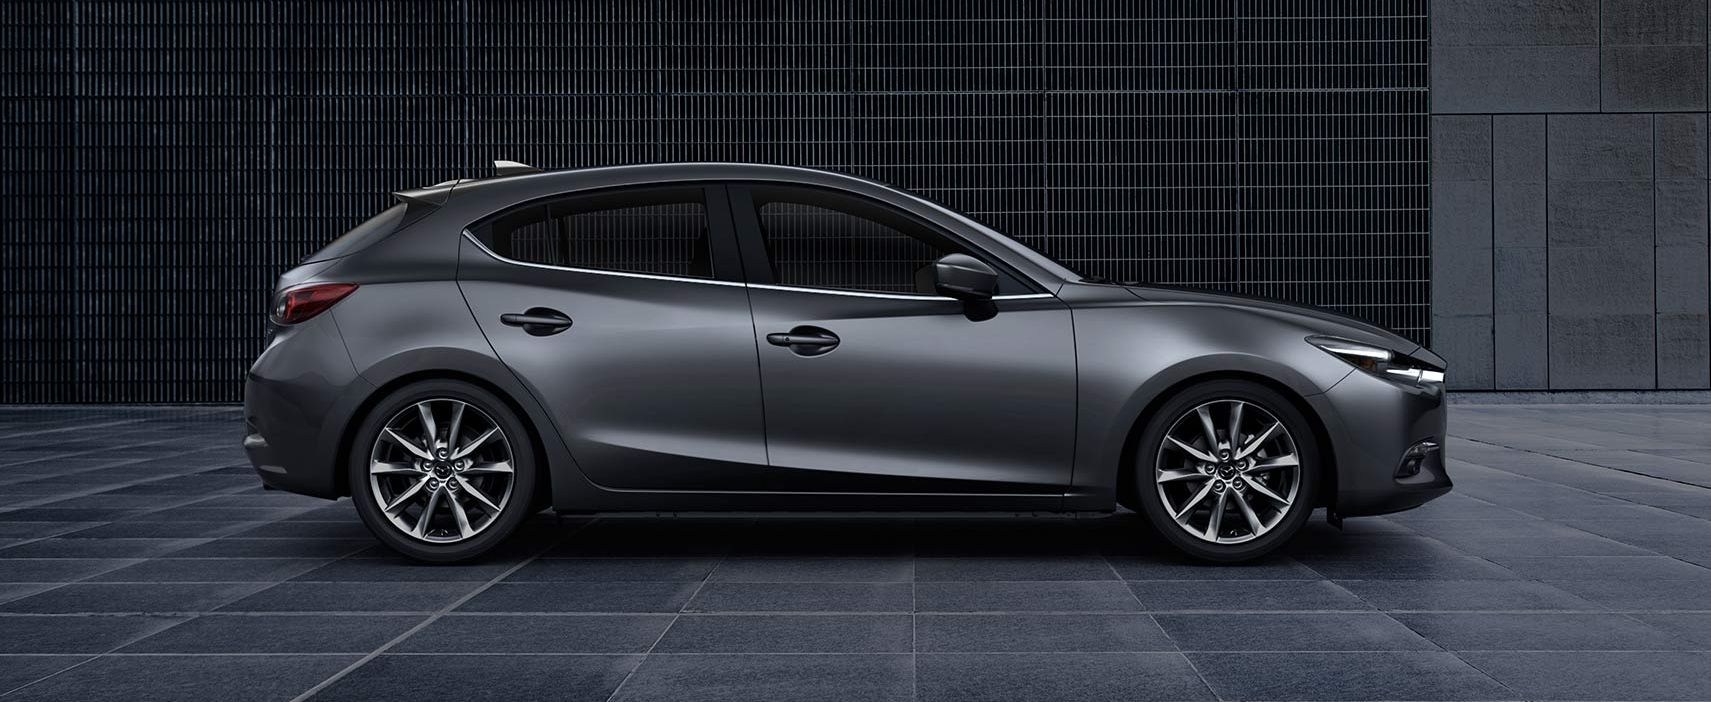Mazda3 Hatchback: (242, 156, 1458, 571)
